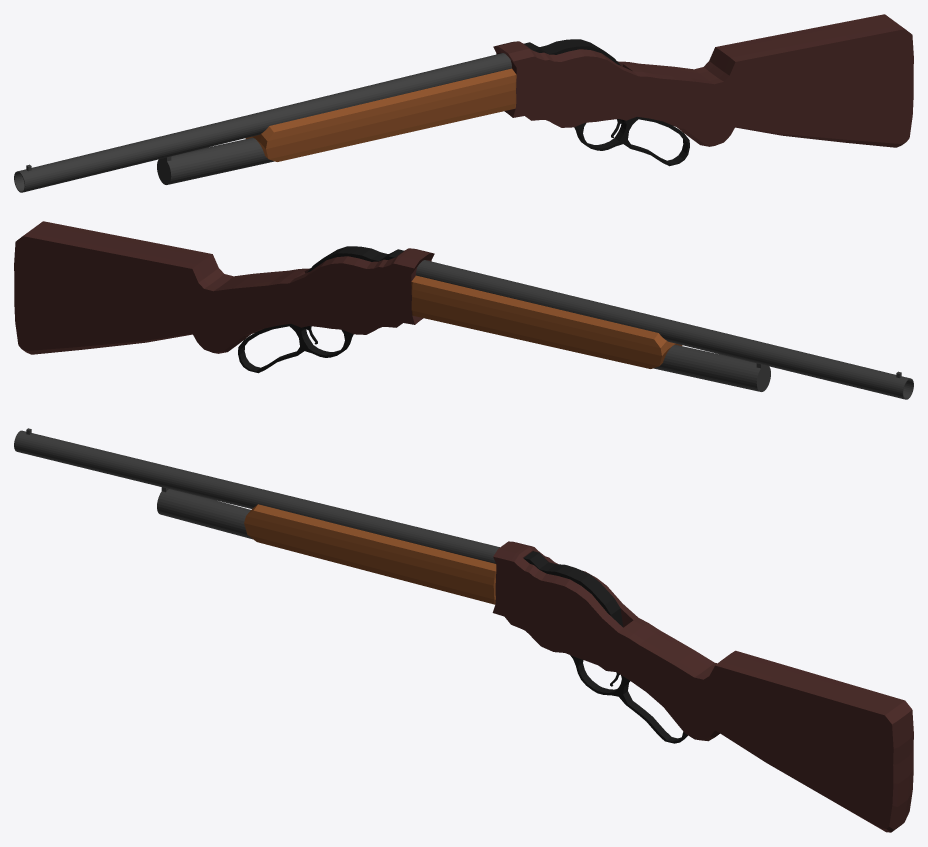
File: escopeta_low.fbx
The picture shows the model from 3 angles, top to bottom: view 1: azimuth 30°, elevation 25°; view 2: azimuth 150°, elevation 25°; view 3: azimuth 330°, elevation 25°; orthographic projection.
Parts seen in each view (by area): view 1: Shotgun_body_low, Shotgun_body_02_low, Shotgun_body_01_low, Shotgunt_trigger_low; view 2: Shotgun_body_low, Shotgun_body_02_low, Shotgun_body_01_low, Shotgunt_trigger_low; view 3: Shotgun_body_low, Shotgun_body_02_low, Shotgun_body_01_low, Shotgunt_trigger_low.
Boxes of the visible parts, box(x1,y1,x2,y2) form: Shotgun_body_low: box(493, 14, 913, 147); Shotgun_body_02_low: box(14, 53, 511, 192); Shotgun_body_01_low: box(245, 68, 516, 161); Shotgunt_trigger_low: box(524, 39, 689, 166); Shotgun_body_low: box(14, 221, 434, 354); Shotgun_body_02_low: box(416, 260, 913, 399); Shotgun_body_01_low: box(411, 275, 682, 368); Shotgunt_trigger_low: box(238, 246, 403, 373); Shotgun_body_low: box(492, 541, 913, 832); Shotgun_body_02_low: box(14, 428, 499, 563); Shotgun_body_01_low: box(244, 504, 496, 604); Shotgunt_trigger_low: box(523, 551, 687, 743).
Bounding box in the file's own units: 371 × 75.72 × 15.93.
